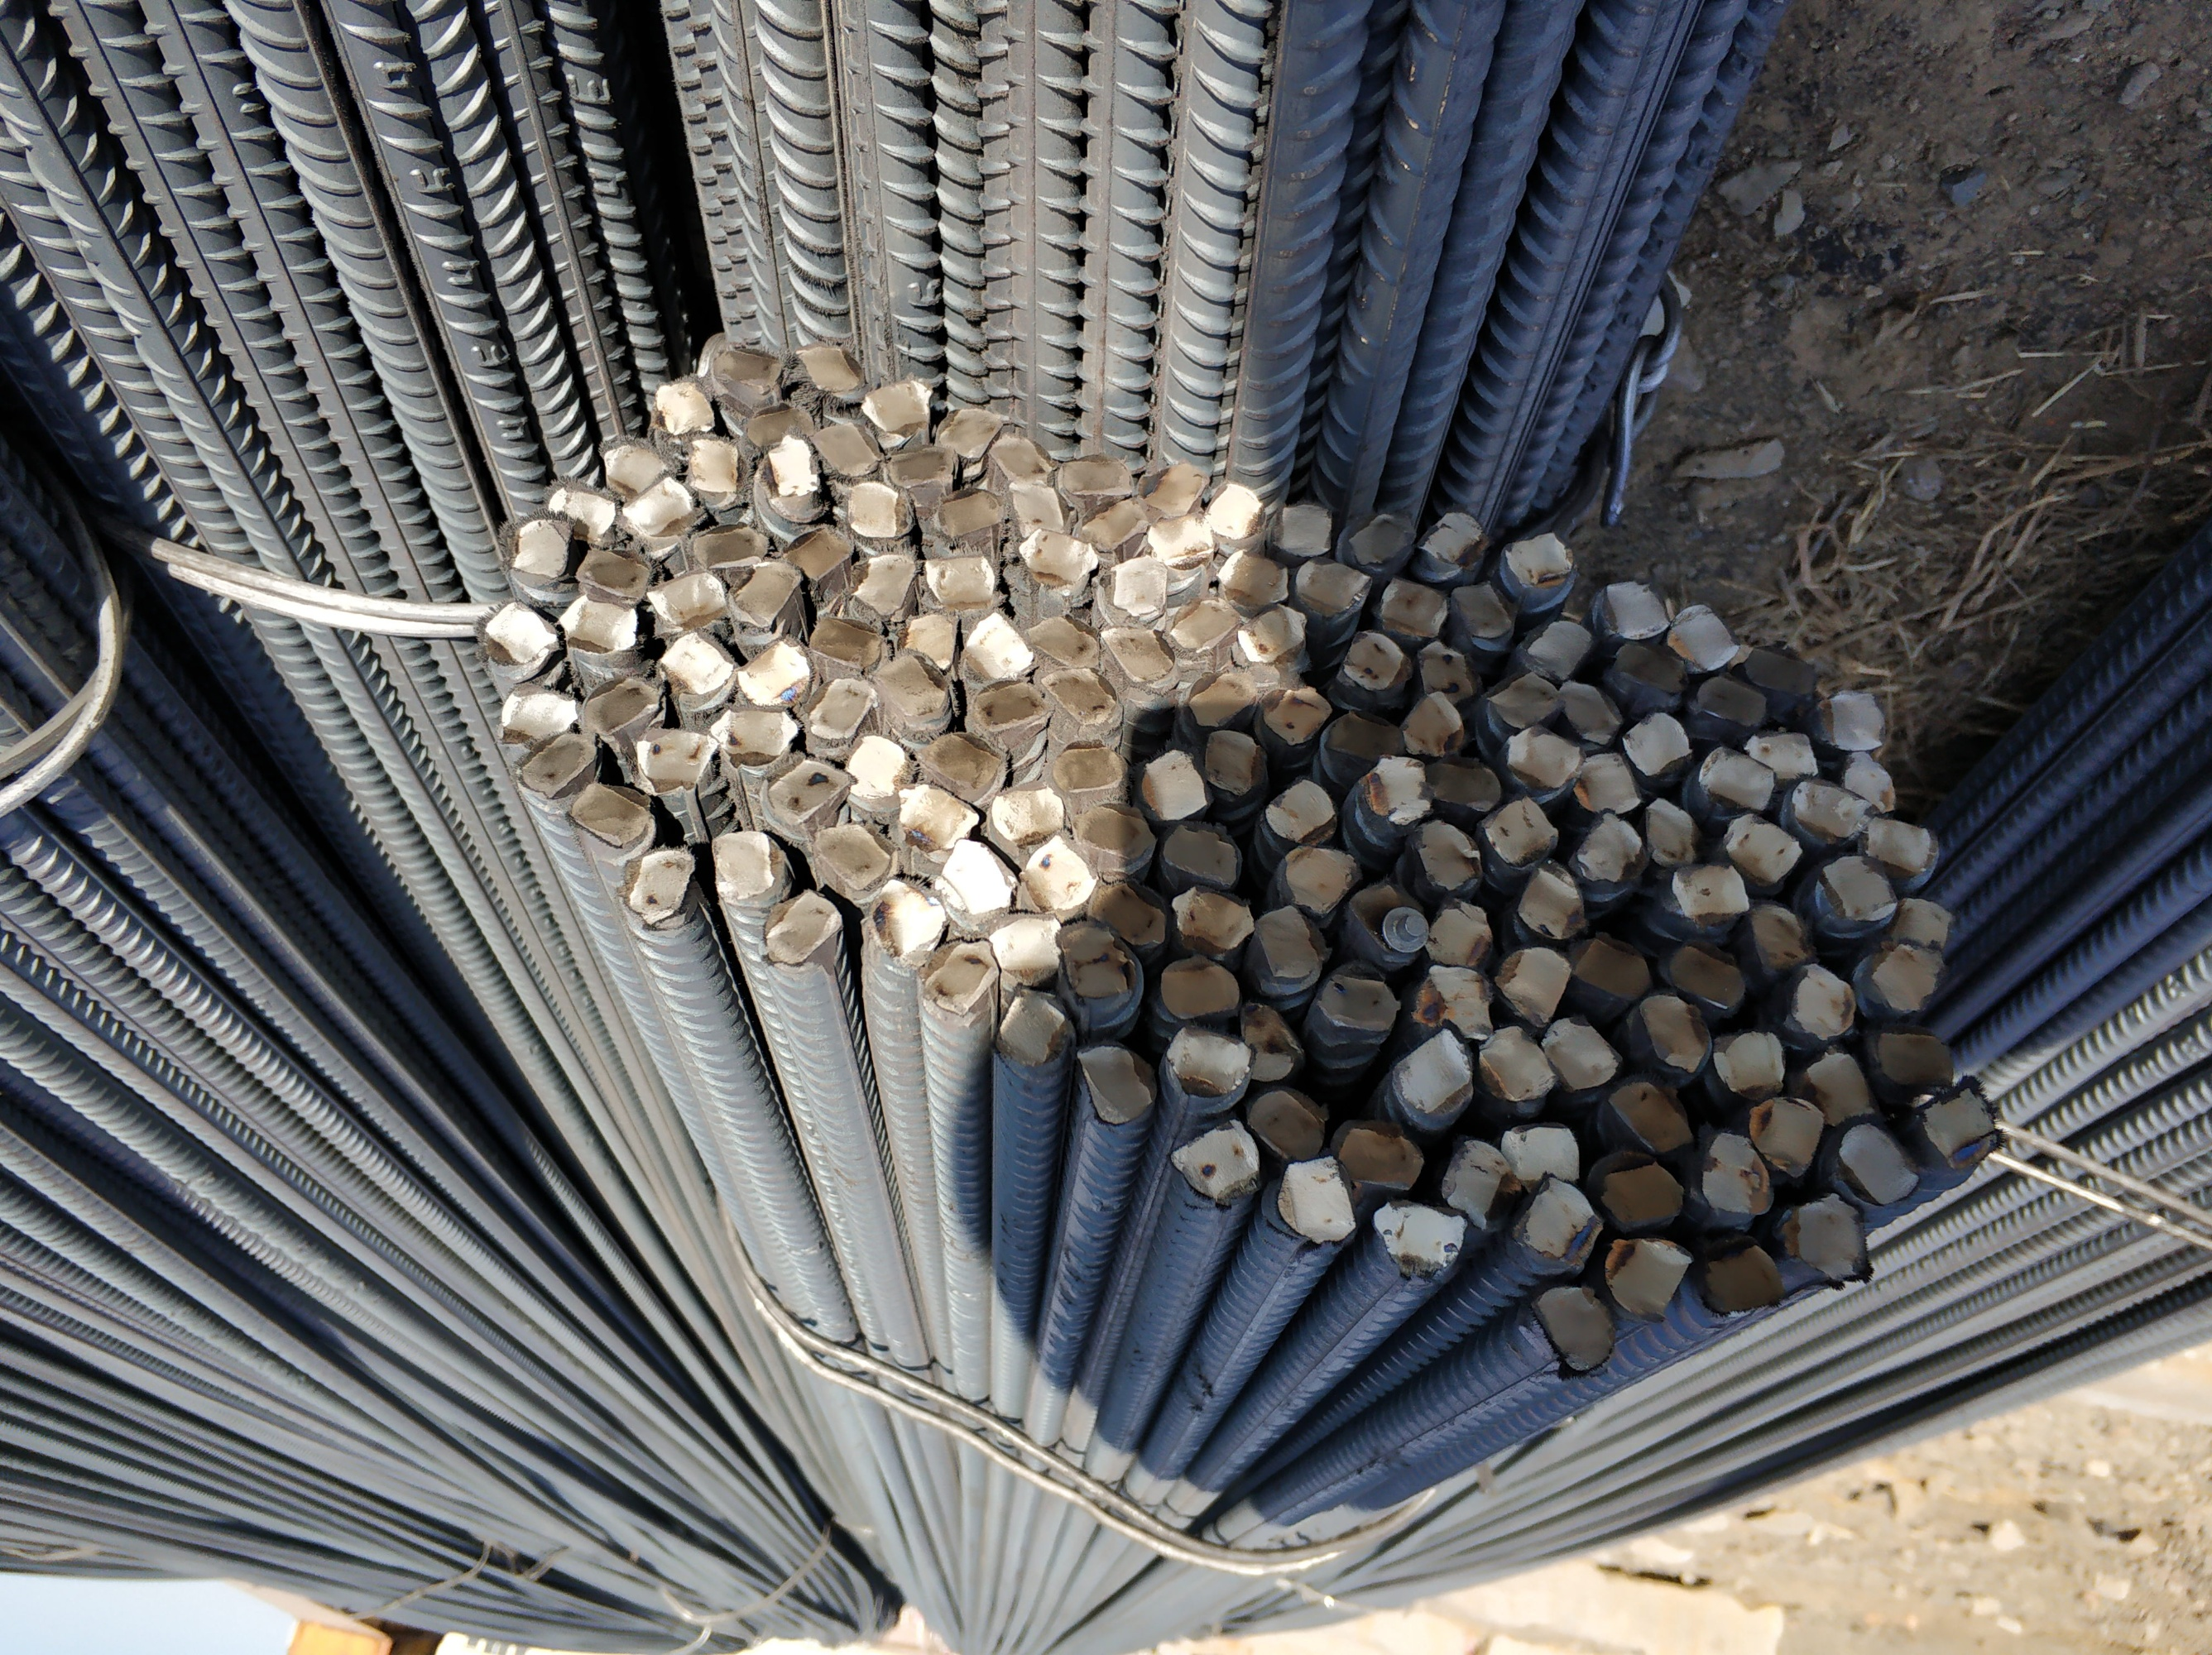rebar: (1533, 1285, 1623, 1375), (1168, 1114, 1262, 1201), (1519, 1172, 1606, 1266), (1791, 1189, 1875, 1286), (1604, 1233, 1692, 1323), (1915, 1081, 2003, 1170), (1275, 1153, 1359, 1245), (1394, 1026, 1472, 1123), (1439, 1137, 1519, 1231), (1701, 1229, 1786, 1316), (865, 876, 947, 965), (1837, 1120, 1920, 1205), (1593, 1151, 1684, 1229), (1698, 1130, 1776, 1219), (933, 834, 1015, 918), (1414, 963, 1498, 1045), (1748, 1093, 1828, 1179), (1076, 1040, 1154, 1127), (1493, 944, 1569, 1031), (1373, 1196, 1463, 1269), (761, 887, 843, 967), (1348, 878, 1427, 961), (1538, 1014, 1623, 1090), (1818, 850, 1897, 930), (1637, 991, 1713, 1074), (622, 841, 697, 927), (1166, 1024, 1251, 1099), (1022, 831, 1096, 914), (566, 777, 652, 850), (1244, 1087, 1329, 1160), (1609, 1081, 1694, 1154), (474, 598, 561, 669), (1336, 1121, 1427, 1189), (707, 824, 785, 902), (506, 511, 582, 591), (1282, 841, 1362, 918), (499, 678, 582, 751), (997, 986, 1070, 1069), (733, 629, 811, 706), (1480, 1024, 1557, 1102), (1515, 862, 1592, 940), (989, 907, 1063, 987), (556, 588, 639, 659), (1062, 920, 1133, 1003), (1501, 1114, 1585, 1186), (1171, 880, 1255, 951), (514, 732, 603, 798), (1235, 996, 1301, 1085), (1877, 1027, 1965, 1093), (919, 935, 996, 1012), (619, 471, 697, 546), (1362, 749, 1437, 827), (810, 819, 890, 892), (1722, 810, 1802, 883), (634, 723, 716, 794), (1159, 949, 1241, 1020), (765, 756, 850, 824), (1018, 523, 1105, 589), (1411, 819, 1487, 894), (1791, 777, 1880, 841), (1482, 796, 1562, 867), (1317, 965, 1399, 1034), (1573, 934, 1654, 1003), (895, 777, 978, 845), (1807, 1050, 1882, 1125), (1745, 897, 1818, 974), (1668, 598, 1741, 675), (1089, 880, 1168, 951), (1140, 748, 1211, 826), (1255, 904, 1324, 984), (1668, 944, 1753, 1008), (1873, 944, 1946, 1019), (1573, 810, 1646, 885), (1423, 895, 1496, 970), (580, 675, 667, 737), (1262, 775, 1340, 845), (917, 728, 999, 794), (711, 706, 799, 767), (1793, 960, 1858, 1043), (963, 608, 1036, 681), (1619, 708, 1696, 777), (1505, 723, 1581, 793), (657, 631, 732, 701), (1863, 814, 1941, 880), (1295, 555, 1373, 621), (1096, 621, 1176, 685), (711, 344, 785, 412), (1712, 1027, 1788, 1093), (1043, 662, 1123, 725), (728, 556, 801, 624), (1703, 746, 1776, 814), (1189, 664, 1262, 732), (1378, 574, 1453, 640), (1262, 683, 1336, 749), (1164, 822, 1241, 887), (990, 782, 1069, 845), (876, 654, 947, 721), (1823, 685, 1891, 756), (1239, 600, 1310, 668), (844, 475, 917, 541), (1597, 577, 1672, 641), (573, 542, 652, 603), (1672, 859, 1750, 920), (1425, 753, 1503, 814), (1557, 675, 1621, 748), (1487, 668, 1560, 732), (546, 480, 620, 542), (1498, 527, 1573, 589), (857, 376, 935, 435), (646, 568, 726, 626), (1613, 638, 1684, 702), (1526, 617, 1597, 681), (683, 429, 745, 502), (1133, 461, 1208, 522), (1324, 709, 1406, 765), (808, 675, 876, 741), (1401, 690, 1467, 758), (1201, 727, 1263, 798), (1027, 610, 1103, 668), (1074, 803, 1150, 861), (1451, 577, 1515, 645), (1574, 749, 1644, 812), (792, 339, 864, 400), (1341, 629, 1407, 694), (601, 431, 669, 494), (1107, 551, 1169, 619), (846, 732, 907, 801), (1745, 643, 1818, 701), (1746, 727, 1819, 784), (1076, 495, 1150, 551), (1204, 475, 1267, 541), (806, 421, 883, 475), (1173, 596, 1242, 655), (650, 379, 721, 436), (808, 614, 881, 669), (973, 676, 1046, 732), (1142, 506, 1215, 562), (850, 551, 914, 614), (1423, 511, 1489, 572), (784, 525, 855, 581), (1642, 793, 1698, 864), (924, 551, 997, 605), (1051, 739, 1124, 793), (1270, 501, 1336, 560), (940, 402, 1003, 462), (900, 607, 959, 671), (1006, 480, 1067, 541), (1414, 640, 1475, 701), (1058, 454, 1136, 501), (766, 433, 820, 501), (1350, 511, 1418, 565), (1892, 895, 1955, 953), (1844, 751, 1899, 815), (1698, 673, 1764, 727), (886, 442, 959, 490), (985, 433, 1053, 482), (938, 489, 1006, 535), (693, 523, 766, 567), (742, 407, 818, 447)
